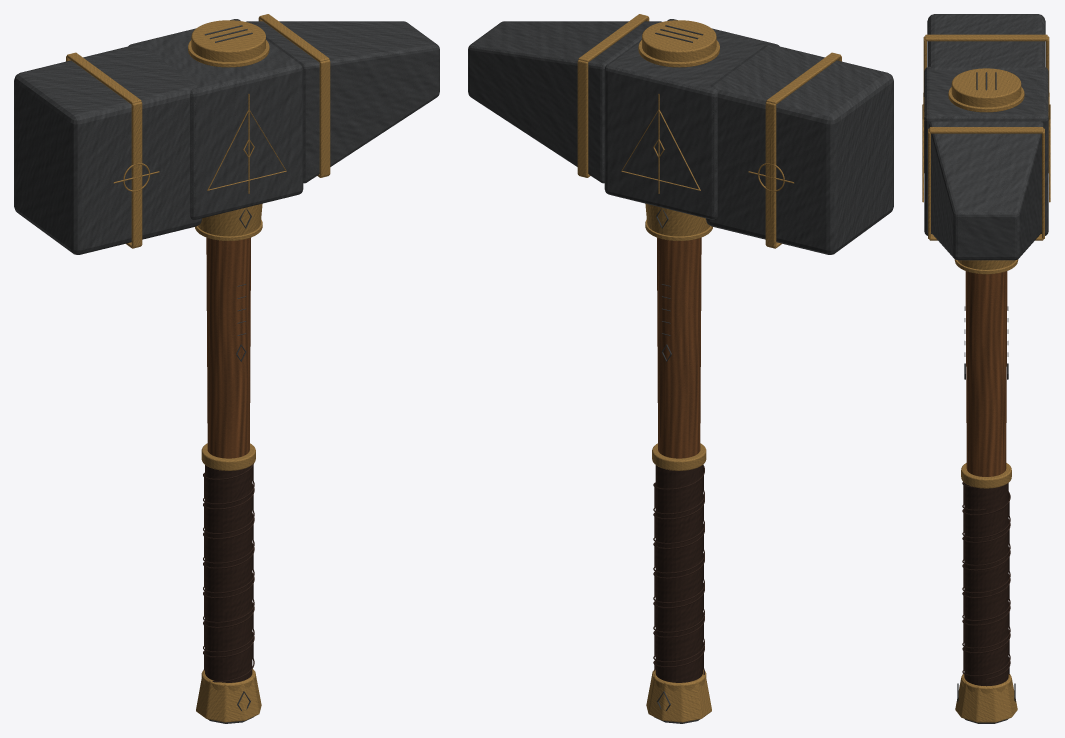
Rendered from guild_hammer.glb.
3 views of the same model, side by side, from view 1: azimuth 30°, elevation 25°; view 2: azimuth 150°, elevation 25°; view 3: azimuth 270°, elevation 25° (orthographic). The views are drawn at different scales.
Visible parts, largest first — view 1: Hammer_Forged_dark_iron, Hammer_Worn_brass, Hammer_Dark_leather, Hammer_Walnut_shaft; view 2: Hammer_Forged_dark_iron, Hammer_Worn_brass, Hammer_Dark_leather, Hammer_Walnut_shaft; view 3: Hammer_Forged_dark_iron, Hammer_Worn_brass, Hammer_Dark_leather, Hammer_Walnut_shaft.
Boxes of the visible parts, box(x1,y1,x2,y2) form: Hammer_Forged_dark_iron: box(14, 19, 439, 723); Hammer_Worn_brass: box(66, 14, 330, 722); Hammer_Dark_leather: box(203, 463, 254, 682); Hammer_Walnut_shaft: box(206, 237, 250, 458); Hammer_Forged_dark_iron: box(468, 19, 893, 723); Hammer_Worn_brass: box(577, 14, 841, 722); Hammer_Dark_leather: box(653, 464, 704, 682); Hammer_Walnut_shaft: box(657, 237, 701, 458); Hammer_Forged_dark_iron: box(924, 14, 1048, 723); Hammer_Worn_brass: box(922, 34, 1050, 722); Hammer_Dark_leather: box(962, 482, 1010, 686); Hammer_Walnut_shaft: box(965, 271, 1007, 476).
Size of the model in its own units: 0.3885 by 0.6616 by 0.1214.
Materials: 4 (4 with a texture image).
